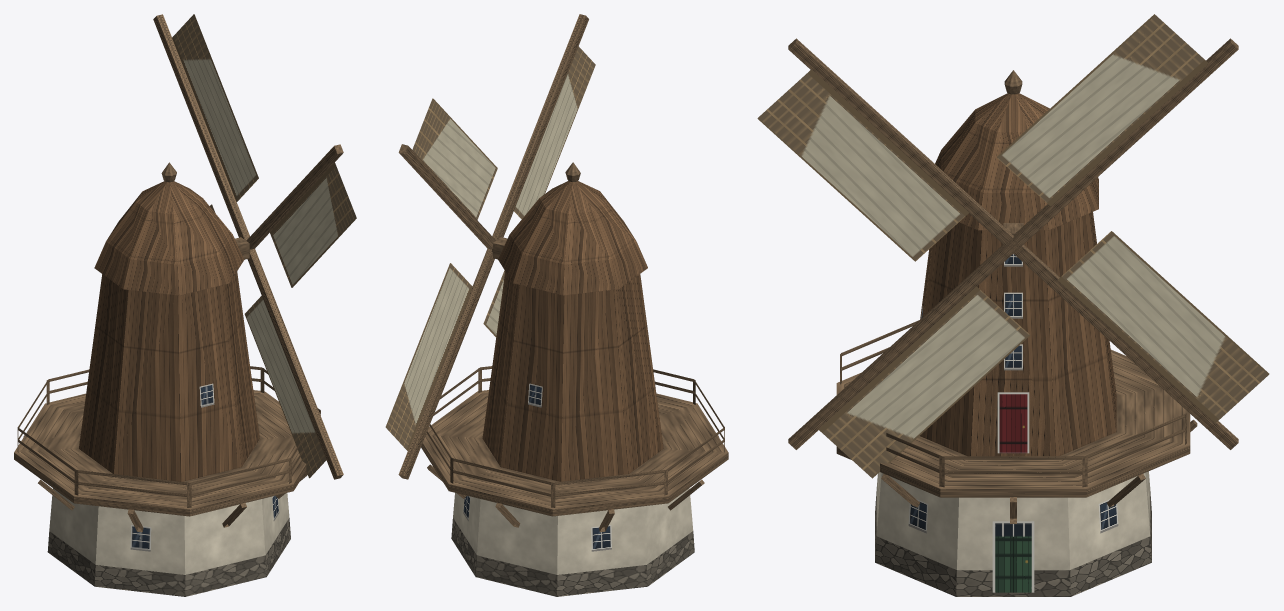
File: SM_Windmill.fbx
The picture shows the model from 3 angles, left to right: view 1: azimuth 30°, elevation 25°; view 2: azimuth 150°, elevation 25°; view 3: azimuth 270°, elevation 25°; orthographic projection. The views are drawn at different scales.
Visible parts, largest first — view 1: SM_Windmill; view 2: SM_Windmill; view 3: SM_Windmill.
Boxes of the visible parts, <box> form: SM_Windmill: <box>14,14,356,596</box>; SM_Windmill: <box>385,14,728,596</box>; SM_Windmill: <box>757,14,1269,596</box>.
Bounding box in the file's own units: 1153 × 1605 × 1983.
1 material, 1 textured.
